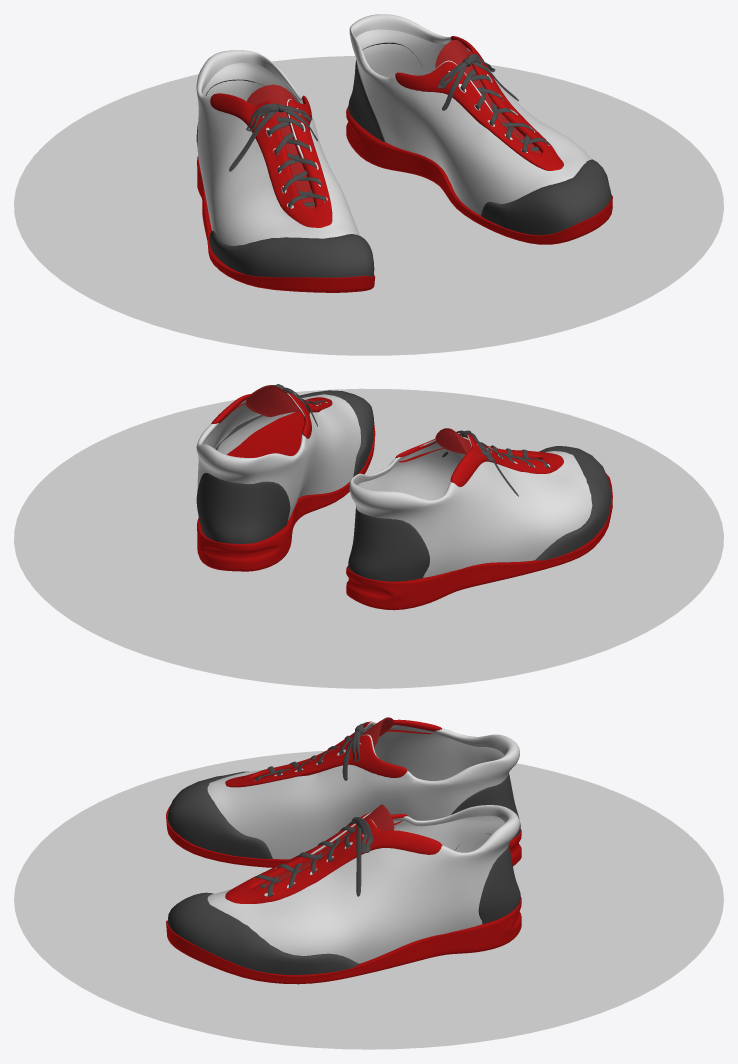
File: snickers.fbx
3 renders of one model, top to bottom at view 1: azimuth 30°, elevation 25°; view 2: azimuth 150°, elevation 25°; view 3: azimuth 270°, elevation 25°, orthographic.
Parts seen in each view (by area): view 1: Disc, snickers; view 2: Disc, snickers; view 3: Disc, snickers.
Boxes of the visible parts, x1,y1,x2,y2 form: Disc: [14, 56, 723, 355]; snickers: [196, 14, 612, 292]; Disc: [14, 388, 723, 688]; snickers: [196, 384, 612, 610]; Disc: [14, 750, 723, 1049]; snickers: [166, 717, 521, 984].
Bounding box in the file's own units: 59 × 12.64 × 59.
